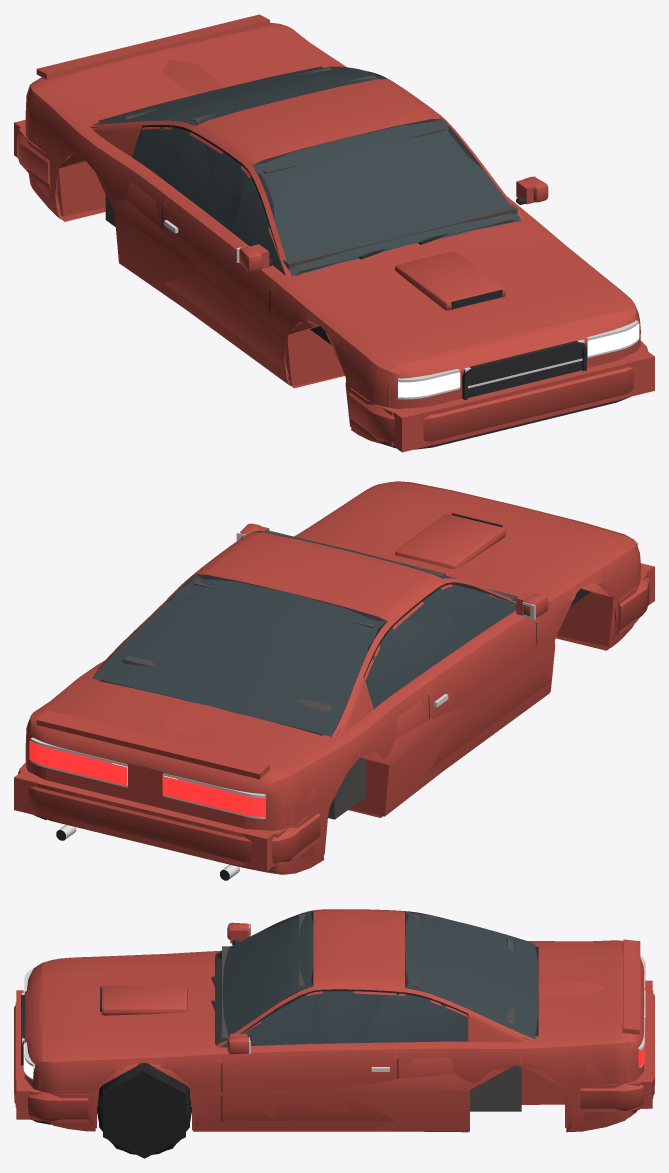
File: coupe.glb
3 views of the same model, one above another, from view 1: azimuth 30°, elevation 25°; view 2: azimuth 150°, elevation 25°; view 3: azimuth 270°, elevation 25° (orthographic). The views are drawn at different scales.
Visible parts, largest first — view 1: lod0_body, lod1_body, lod0_hood, lod2_body, lod0_bumper_F, lod1_bumper_F, lod1_hood, lod2_light_head, lod0_bumper_R, lod0_light_head; view 2: lod0_body, lod1_body, lod2_body, lod0_hood, lod0_bumper_R, lod1_bumper_R, lod2_light_tail, lod1_hood, lod0_bumper_F; view 3: lod0_body, lod1_body, lod0_hood, lod2_body, lod0_door, lod1_door, lod2_wheel, lod0_bumper_F, lod0_bumper_R, lod1_bumper_R, lod0_wheel, lod1_hood (+1 smaller).
Part boxes in pixels (<box>): lod0_body: <box>25,15,640,442</box>; lod1_body: <box>26,14,640,443</box>; lod0_hood: <box>281,222,636,370</box>; lod2_body: <box>14,59,654,452</box>; lod0_bumper_F: <box>348,341,648,449</box>; lod1_bumper_F: <box>350,341,647,446</box>; lod1_hood: <box>307,248,629,382</box>; lod2_light_head: <box>426,333,622,395</box>; lod0_bumper_R: <box>16,133,49,184</box>; lod0_light_head: <box>398,324,639,397</box>; lod0_body: <box>25,481,640,880</box>; lod1_body: <box>36,531,638,874</box>; lod2_body: <box>14,551,654,871</box>; lod0_hood: <box>294,481,636,602</box>; lod0_bumper_R: <box>17,764,320,869</box>; lod1_bumper_R: <box>19,763,318,866</box>; lod2_light_tail: <box>40,746,248,815</box>; lod1_hood: <box>380,491,630,599</box>; lod0_bumper_F: <box>619,577,649,630</box>; lod0_body: <box>21,909,647,1131</box>; lod1_body: <box>22,910,640,1132</box>; lod0_hood: <box>42,951,210,1062</box>; lod2_body: <box>16,911,652,1131</box>; lod0_door: <box>222,989,397,1130</box>; lod1_door: <box>221,988,397,1131</box>; lod2_wheel: <box>103,1070,185,1158</box>; lod0_bumper_F: <box>14,1005,88,1124</box>; lod0_bumper_R: <box>580,984,654,1112</box>; lod1_bumper_R: <box>580,984,653,1111</box>; lod0_wheel: <box>97,1063,191,1154</box>; lod1_hood: <box>39,978,210,1070</box>.
Size of the model in its own units: 2.02 by 1.26 by 4.55.
